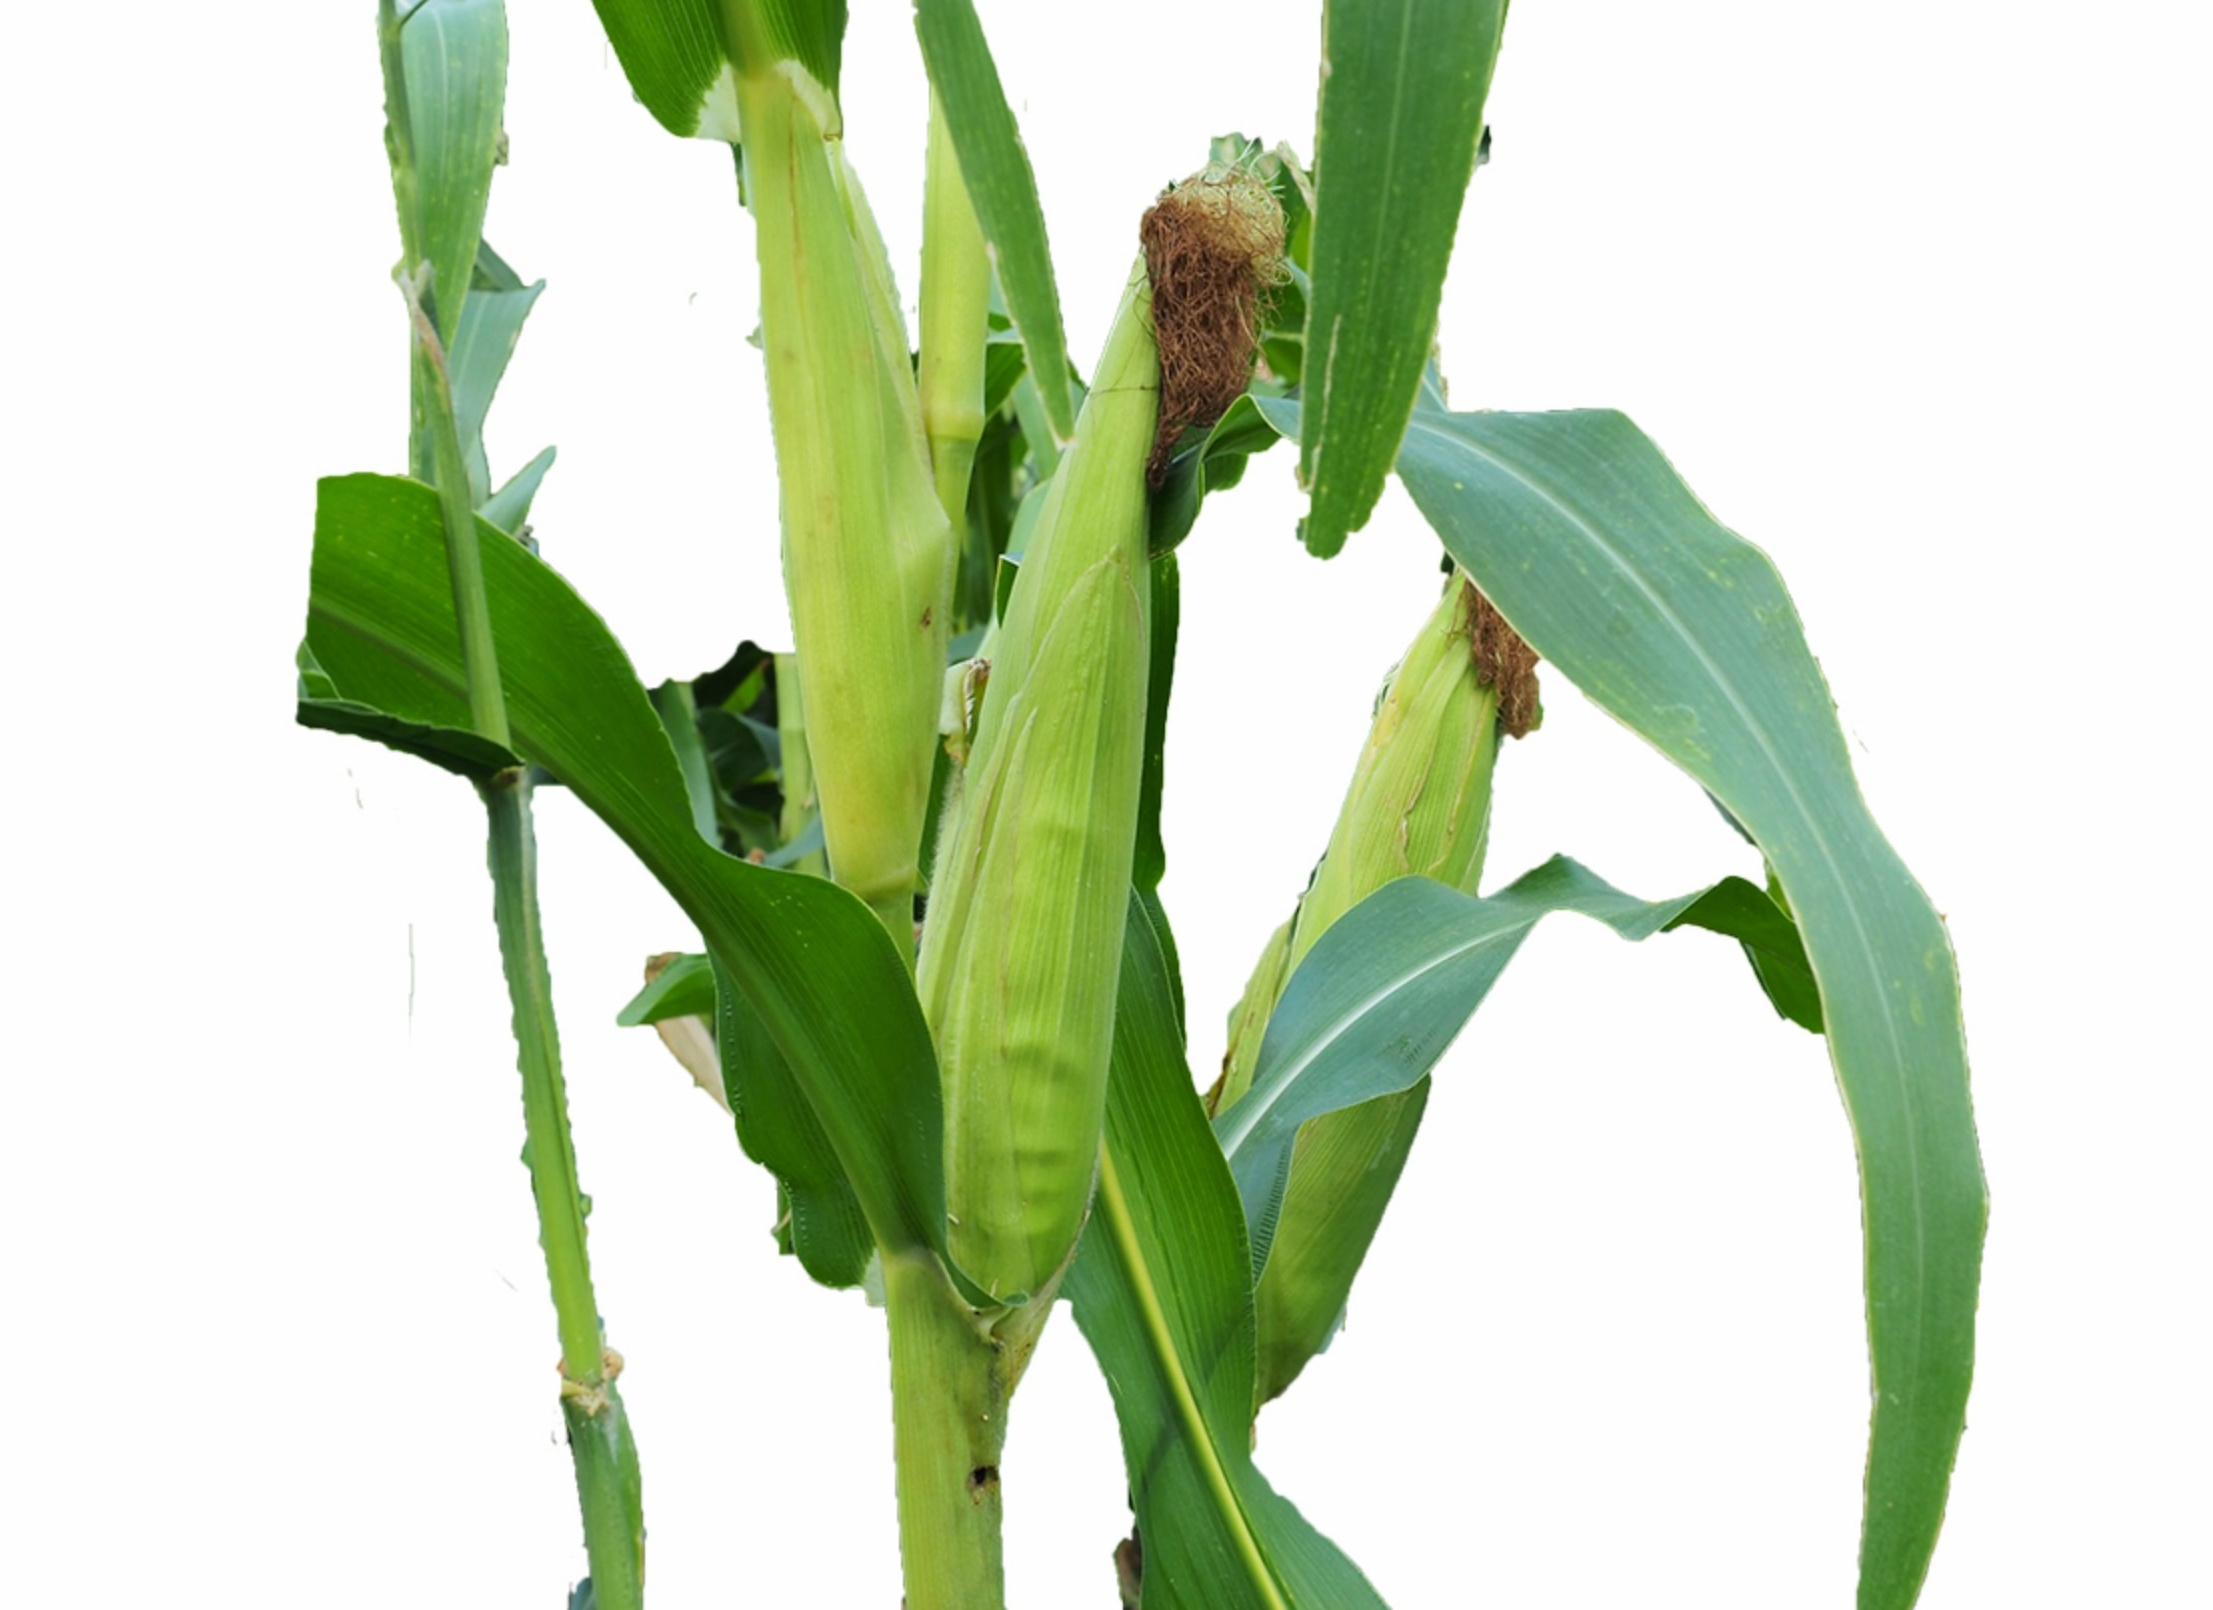corn_plant: (1175, 442, 1608, 1476), (904, 143, 1246, 1436), (687, 33, 943, 1273)
